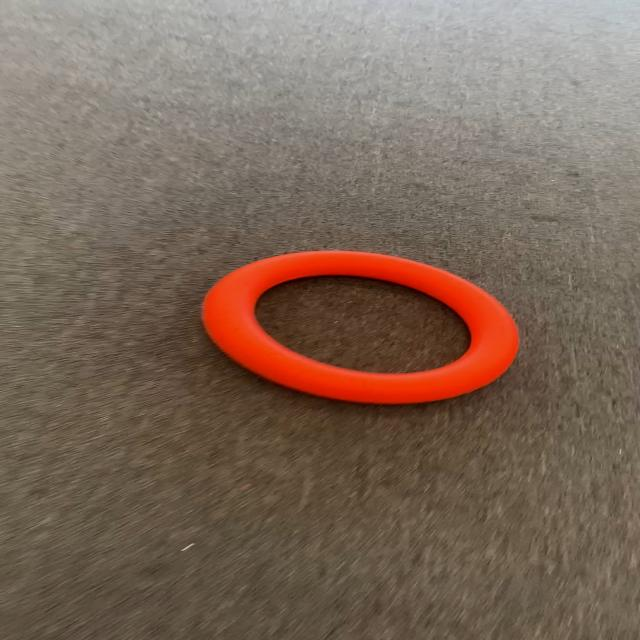notes: (203, 251, 520, 405)
